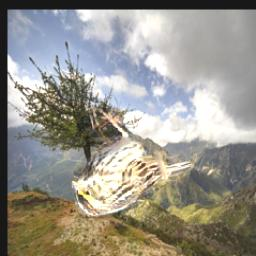Sparrow: (72, 109, 196, 218)
